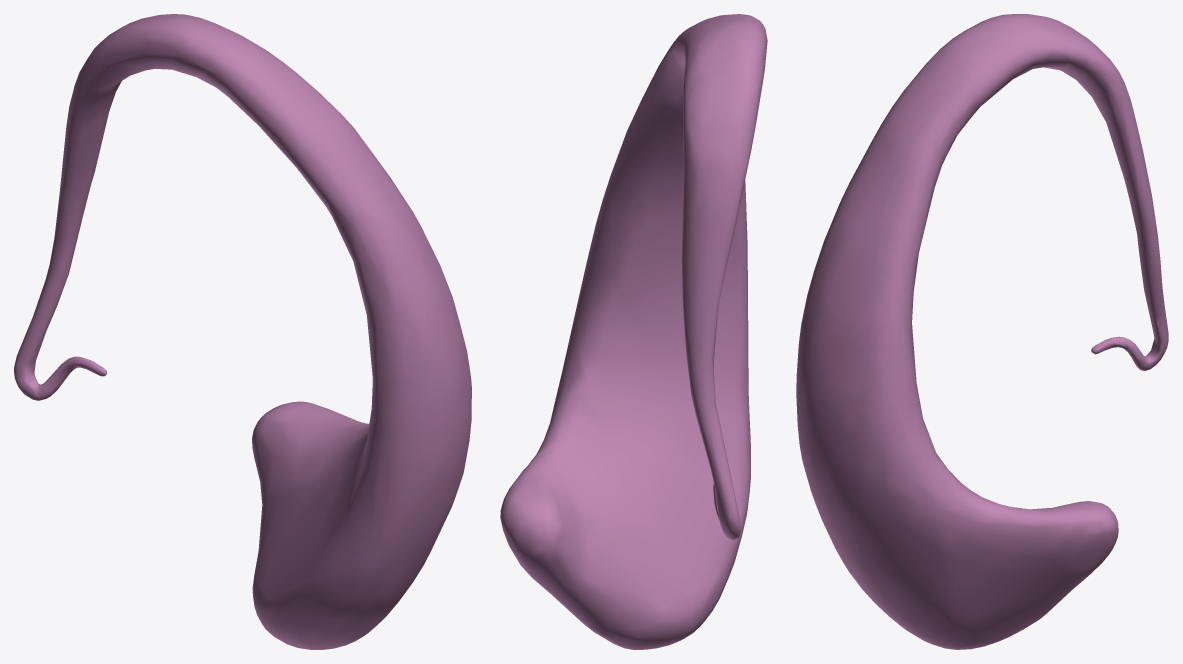
3 views of the same model, side by side, from view 1: azimuth 30°, elevation 25°; view 2: azimuth 150°, elevation 25°; view 3: azimuth 270°, elevation 25° (orthographic). The views are drawn at different scales.
Parts seen in each view (by area): view 1: 右侧尾状核; view 2: 右侧尾状核; view 3: 右侧尾状核.
Part boxes in pixels (x1,y1,x2,y2): 右侧尾状核: (14,14,471,649); 右侧尾状核: (500,14,767,649); 右侧尾状核: (796,14,1168,649).
Size of the model in its own units: 0.0455 by 0.0909 by 0.053.
